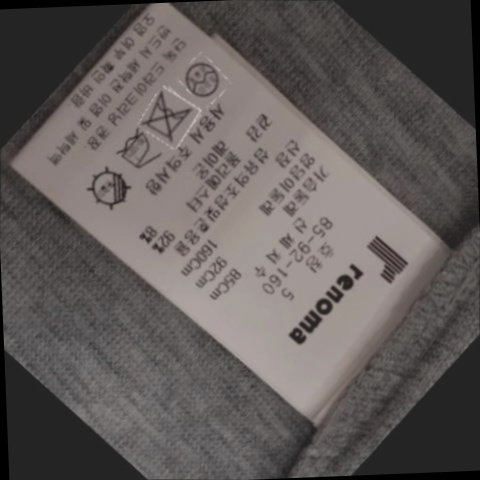DN_wash: (143, 94, 197, 140)
dry_clean_petrol_only: (183, 57, 225, 99)
iron_low: (114, 131, 162, 173)
line_dry_in_shade: (87, 168, 139, 211)
